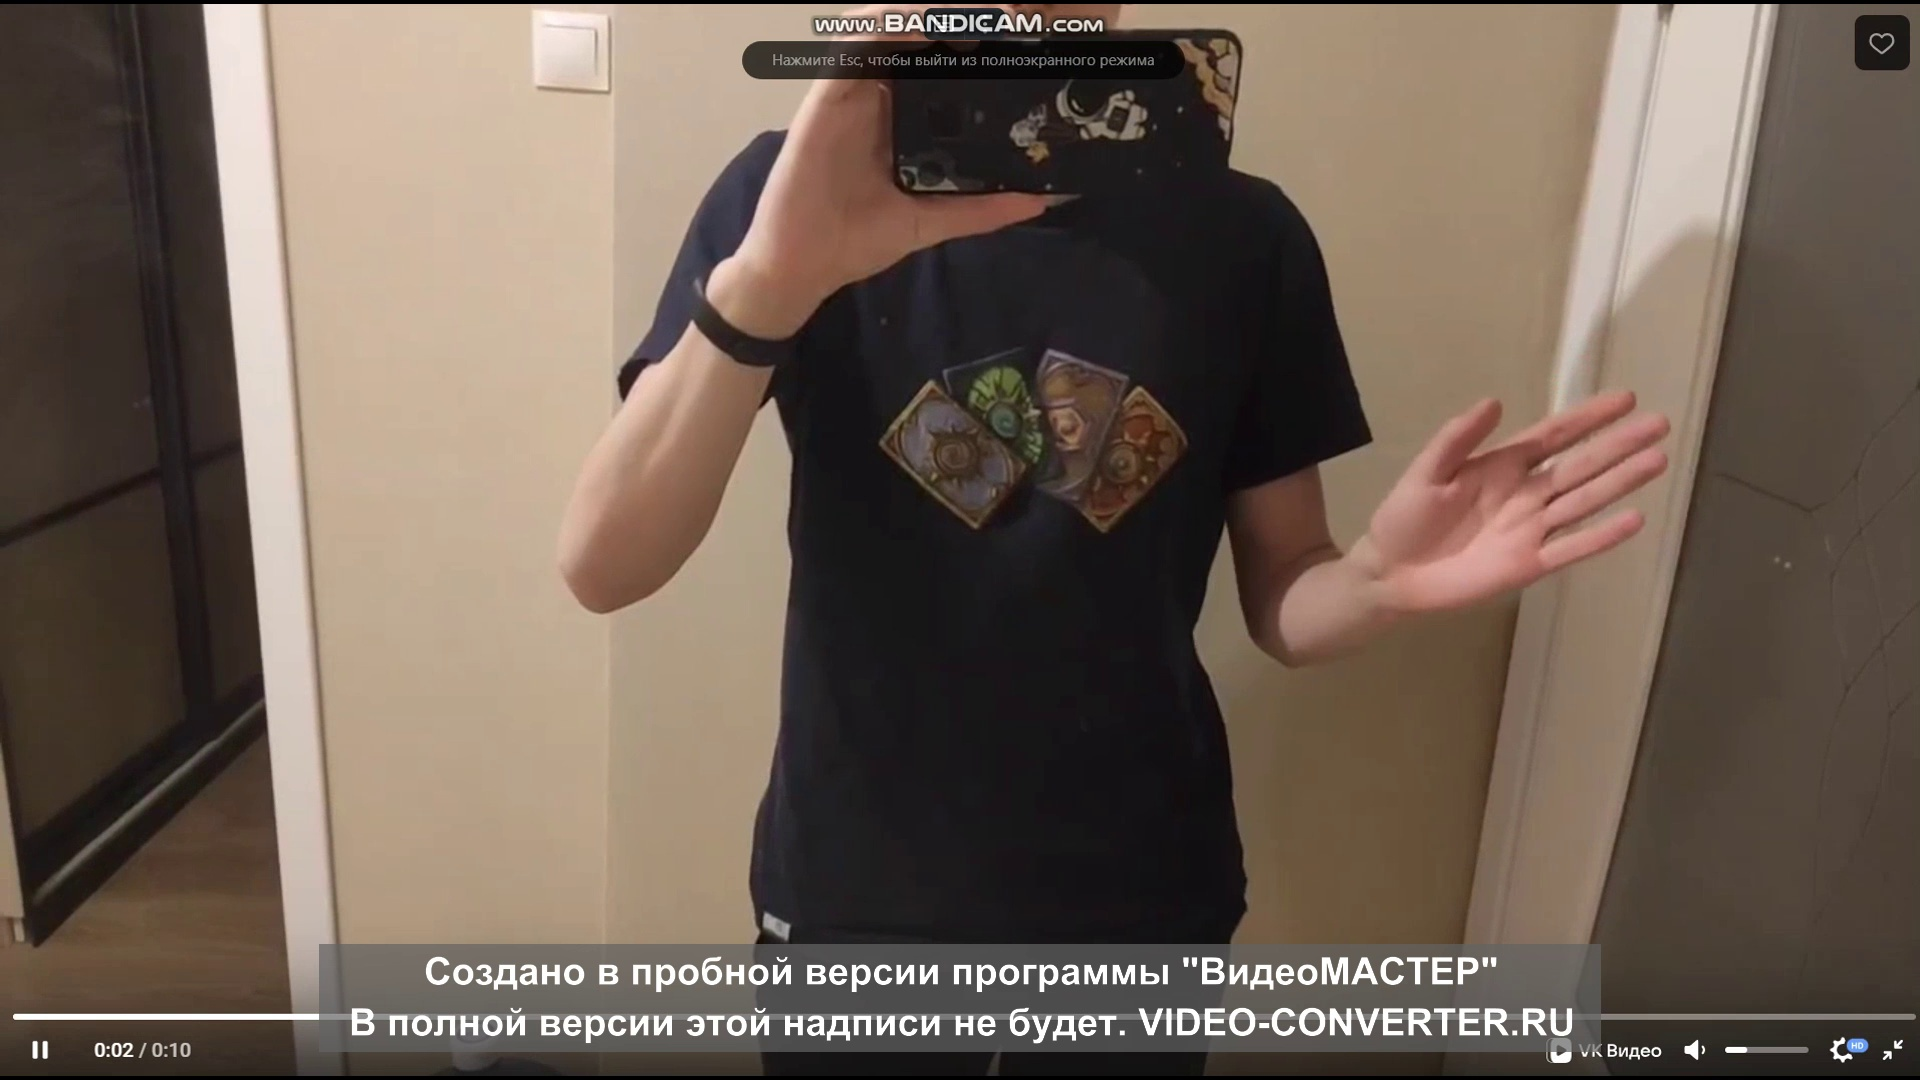Ладонь: (1379, 385, 1672, 613)
